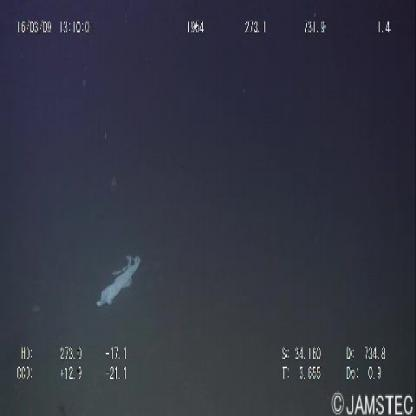Rác: (93, 245, 146, 316)
